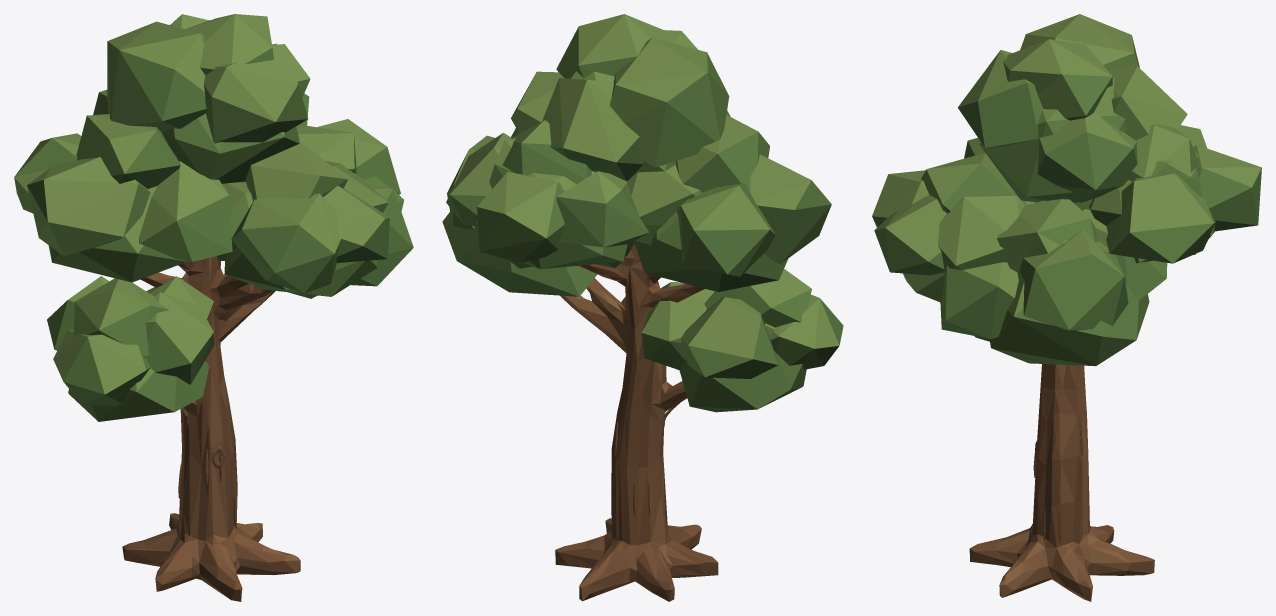
File: tree_thin.glb
3 views of the same model, side by side, from view 1: azimuth 30°, elevation 25°; view 2: azimuth 150°, elevation 25°; view 3: azimuth 270°, elevation 25° (orthographic). The views are drawn at different scales.
Visible parts, largest first — view 1: tree_thin; view 2: tree_thin; view 3: tree_thin.
Part boxes in pixels (left/top/right/bottom): tree_thin: left=14, top=14, right=413, bottom=601; tree_thin: left=442, top=14, right=843, bottom=601; tree_thin: left=872, top=14, right=1261, bottom=601.
Size of the model in its own units: 1.39 by 2 by 1.31.
